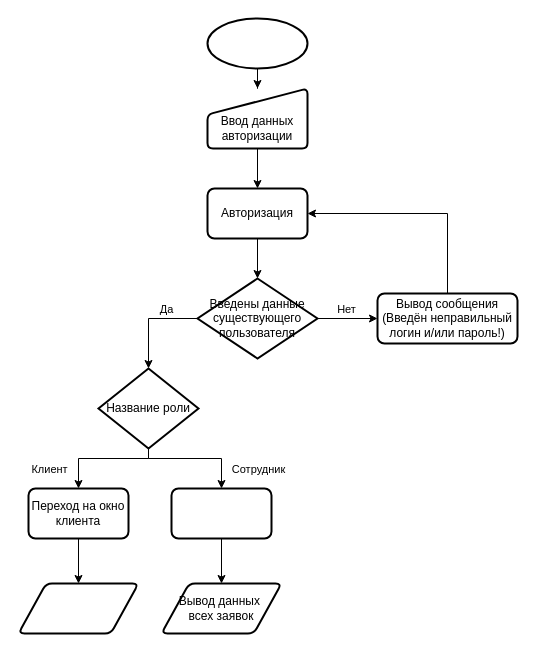
This 535x651 diagram has some shape labels left out. The box of each missing label's shape, as (x1, y1, x2, y2) in pixels:
Вывод данных заявок клиента: (17, 582, 139, 634)
Запуск приложения: (206, 17, 308, 69)
Переход на окно сотрудника: (170, 487, 272, 539)
